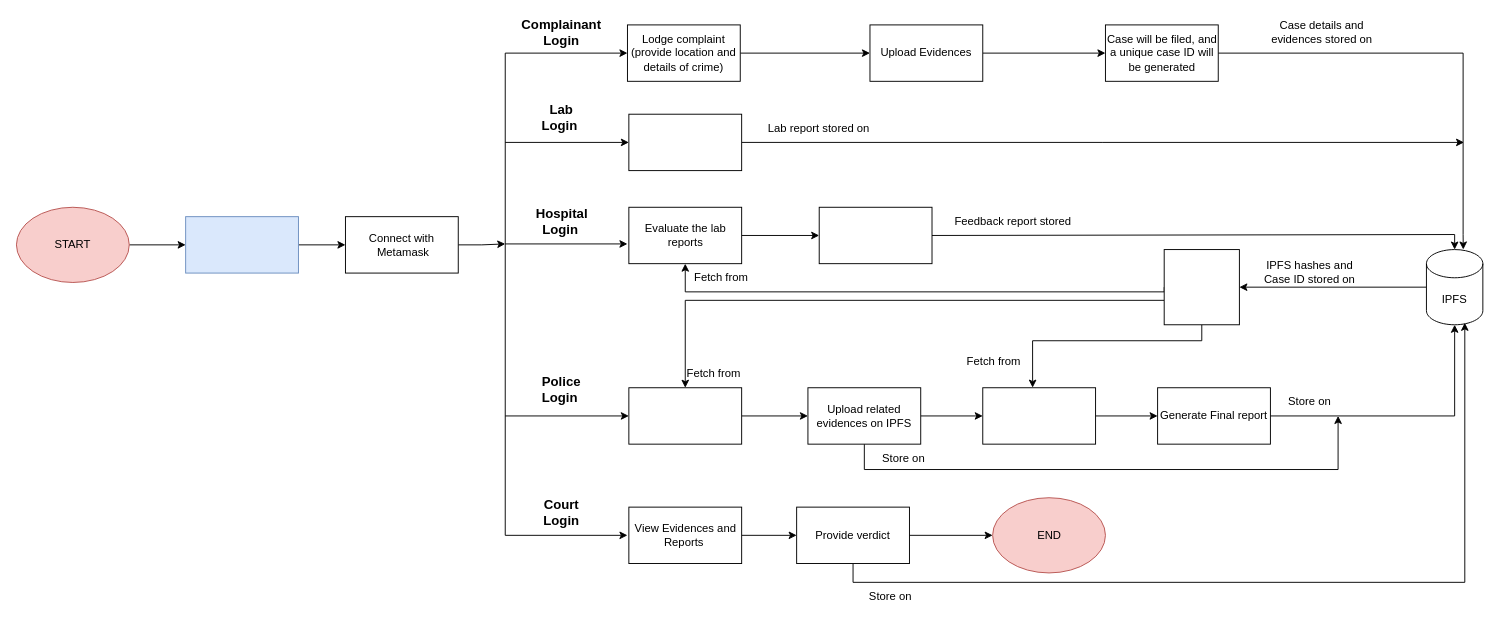
Some shapes in this 1499 by 626 pixel diagram are drawn without their labels. Each missing label, with the centre of its shape:
Ethereum Blockchain: point 1201,287
Evidence Shield: point 241,244
Generate lab report of evidences: point 685,142
Investigate the case using lab and hospital reports: point 1039,415
Provide feedback report: point 875,235
View Case: point 685,415
